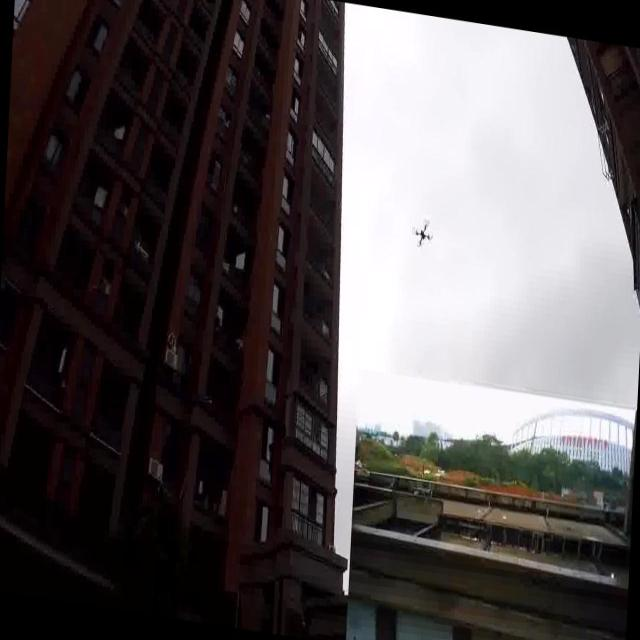drone: (408, 216, 437, 257)
